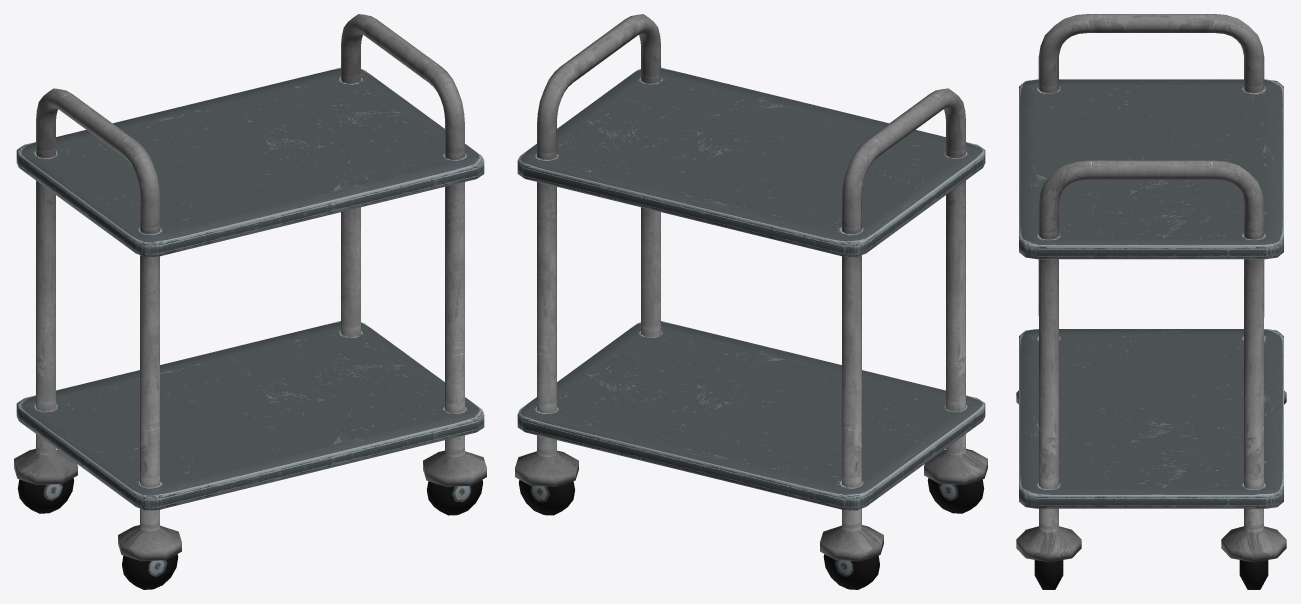
File: CartLow.fbx
The picture shows the model from 3 angles, left to right: view 1: azimuth 30°, elevation 25°; view 2: azimuth 150°, elevation 25°; view 3: azimuth 270°, elevation 25°; orthographic projection.
Parts seen in each view (by area): view 1: CartTable; view 2: CartTable; view 3: CartTable.
Part boxes in pixels (x1,y1,x2,y2): CartTable: (14, 14, 486, 589); CartTable: (515, 14, 987, 589); CartTable: (1016, 14, 1286, 589).
Size of the model in its own units: 132 by 151 by 86.68.
1 material, 1 textured.
